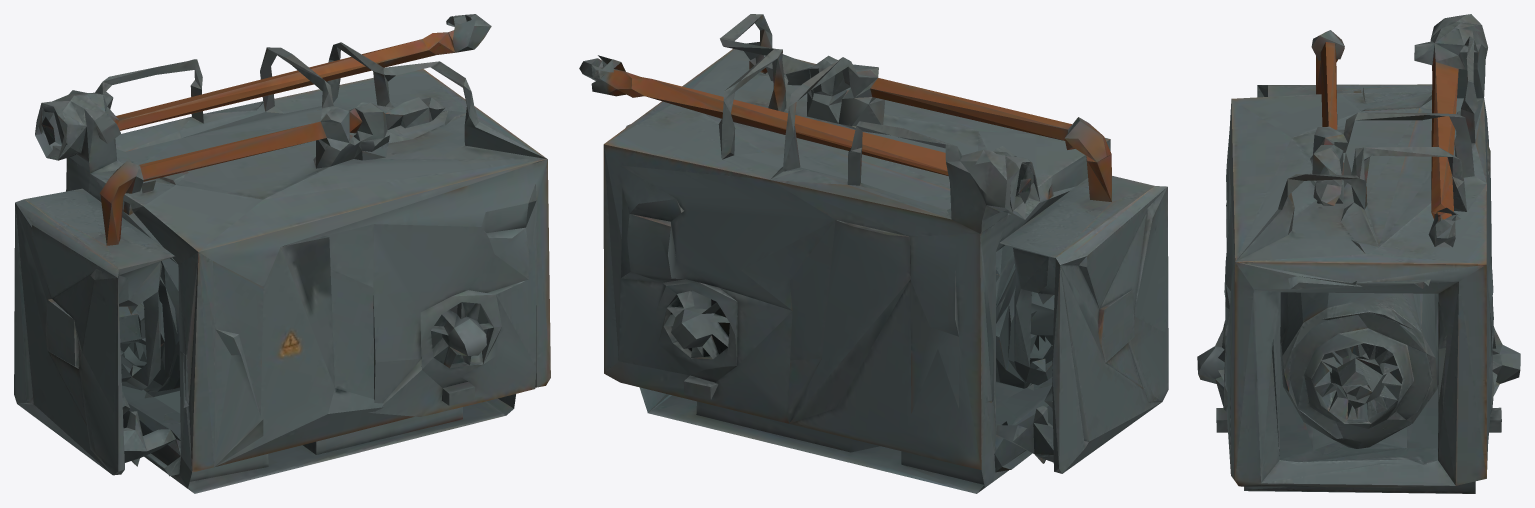
File: compressor.glb
3 views of the same model, side by side, from view 1: azimuth 30°, elevation 25°; view 2: azimuth 150°, elevation 25°; view 3: azimuth 270°, elevation 25° (orthographic). The views are drawn at different scales.
Bounding box in the file's own units: 3.32 × 2.2 × 2.01.
Materials: 1 (1 with a texture image).
